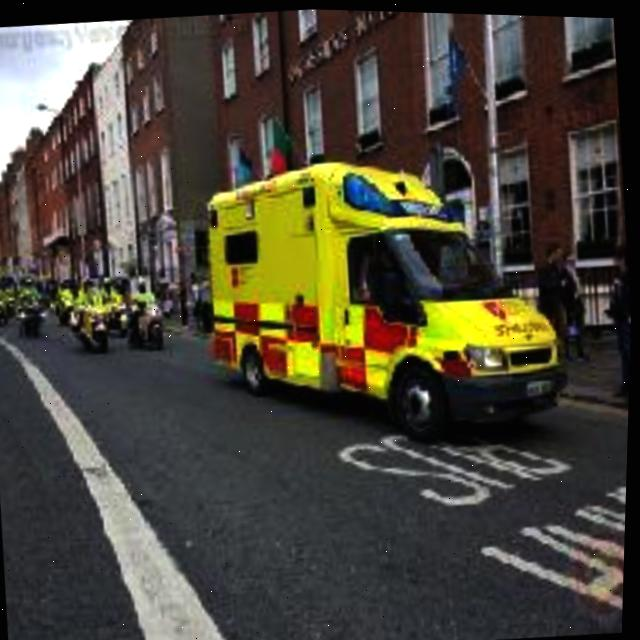emergency: (172, 130, 584, 465)
